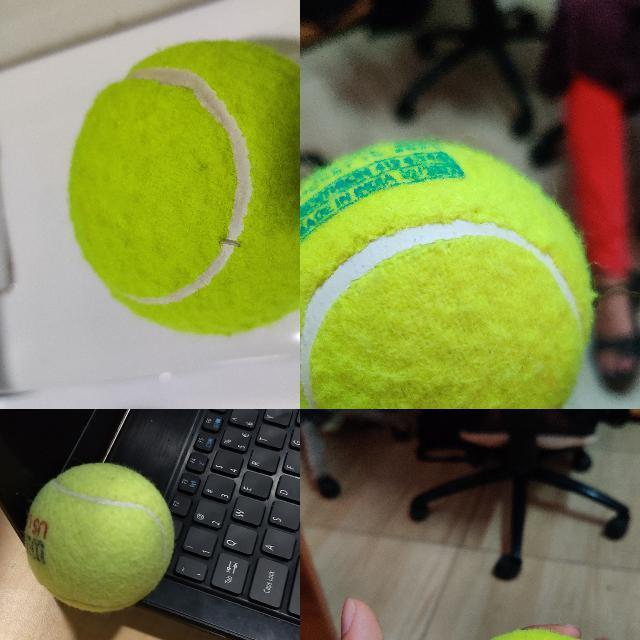tennis-ball: (300, 141, 592, 408), (64, 36, 299, 338), (22, 461, 177, 614)
